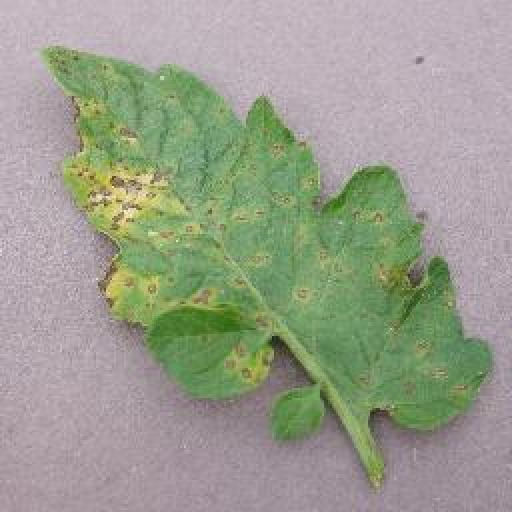disease_tomato: (42, 49, 496, 431)
